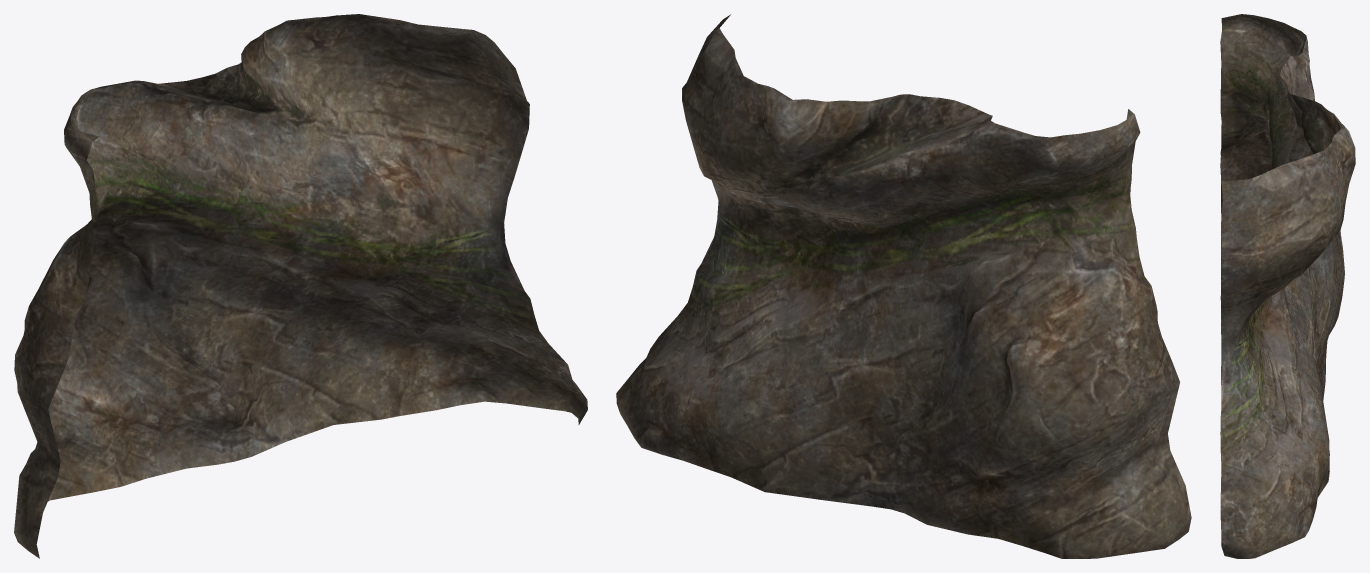
The model's file is cave_strip_veins_01.DAE.
The picture shows the model from 3 angles, left to right: view 1: azimuth 30°, elevation 25°; view 2: azimuth 150°, elevation 25°; view 3: azimuth 270°, elevation 25°; orthographic projection. The views are drawn at different scales.
Visible parts, largest first — view 1: cave_strip_veins_01; view 2: cave_strip_veins_01; view 3: cave_strip_veins_01.
Part boxes in pixels (box(x1,y1,x2,y2)): cave_strip_veins_01: box(14, 14, 587, 558); cave_strip_veins_01: box(616, 14, 1191, 558); cave_strip_veins_01: box(1220, 14, 1355, 558).
Size of the model in its own units: 10.38 by 7.26 by 2.6.
